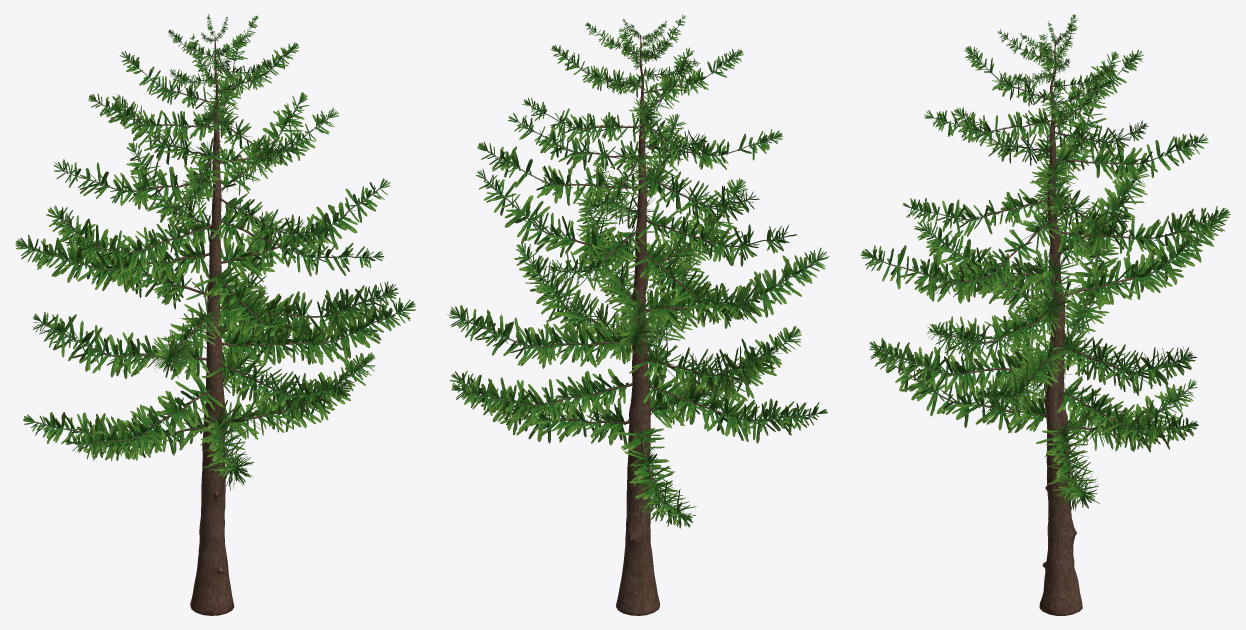
File: tree_evergreen.glb
3 views of the same model, side by side, from view 1: azimuth 30°, elevation 25°; view 2: azimuth 150°, elevation 25°; view 3: azimuth 270°, elevation 25° (orthographic).
Parts seen in each view (by area): view 1: tree_evergreen; view 2: tree_evergreen; view 3: tree_evergreen.
Boxes of the visible parts, box(x1,y1,x2,y2) form: tree_evergreen: box(15, 14, 415, 615); tree_evergreen: box(447, 14, 829, 615); tree_evergreen: box(860, 14, 1230, 615).
Size of the model in its own units: 5.81 by 9.5 by 5.49.
Materials: 2 (2 with a texture image).
